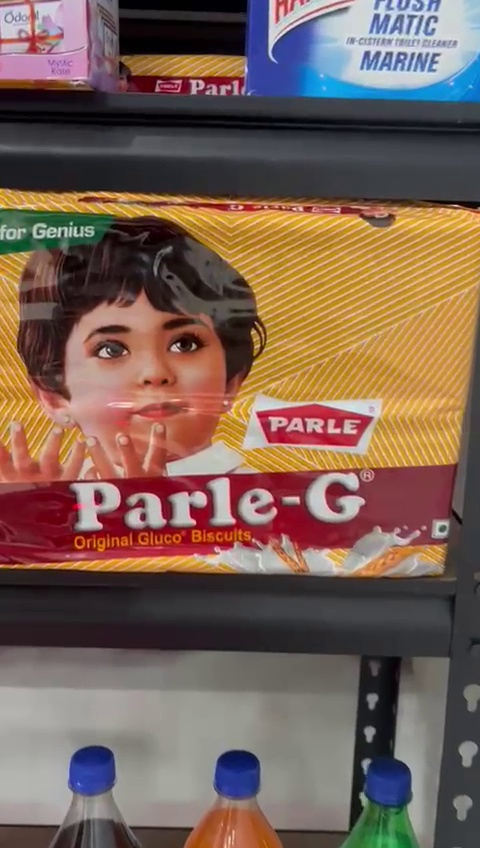Parle-G: (0, 186, 466, 581)
